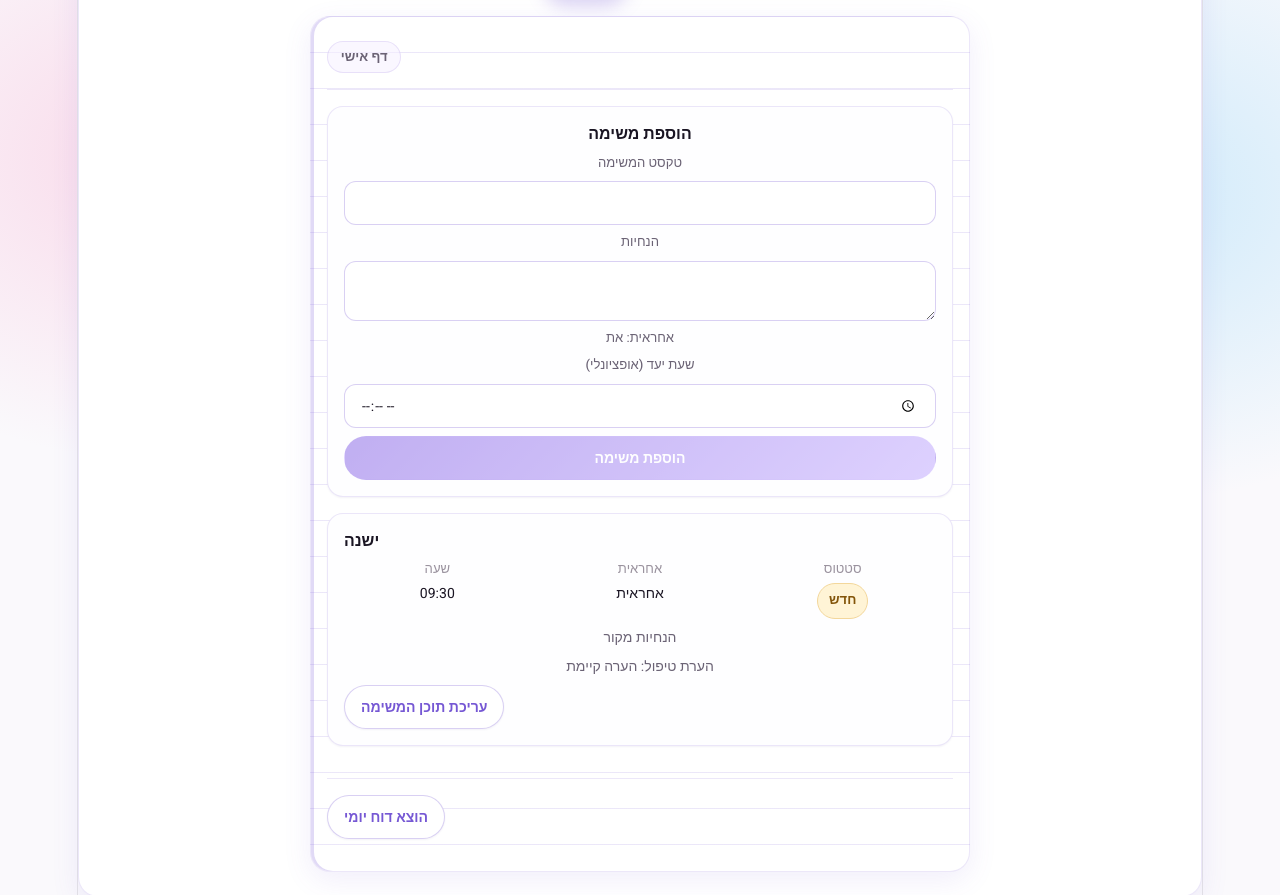
Test: ManagementJournalSection J3A daily summary › does not open a stale report when authoritative refresh fails
The image size is (1280, 895).
(page scrolled)
Step 1. Click the button with test id "journal-daily-summary-open" → [386, 817], box [327,795,445,839]
(page scrolled)
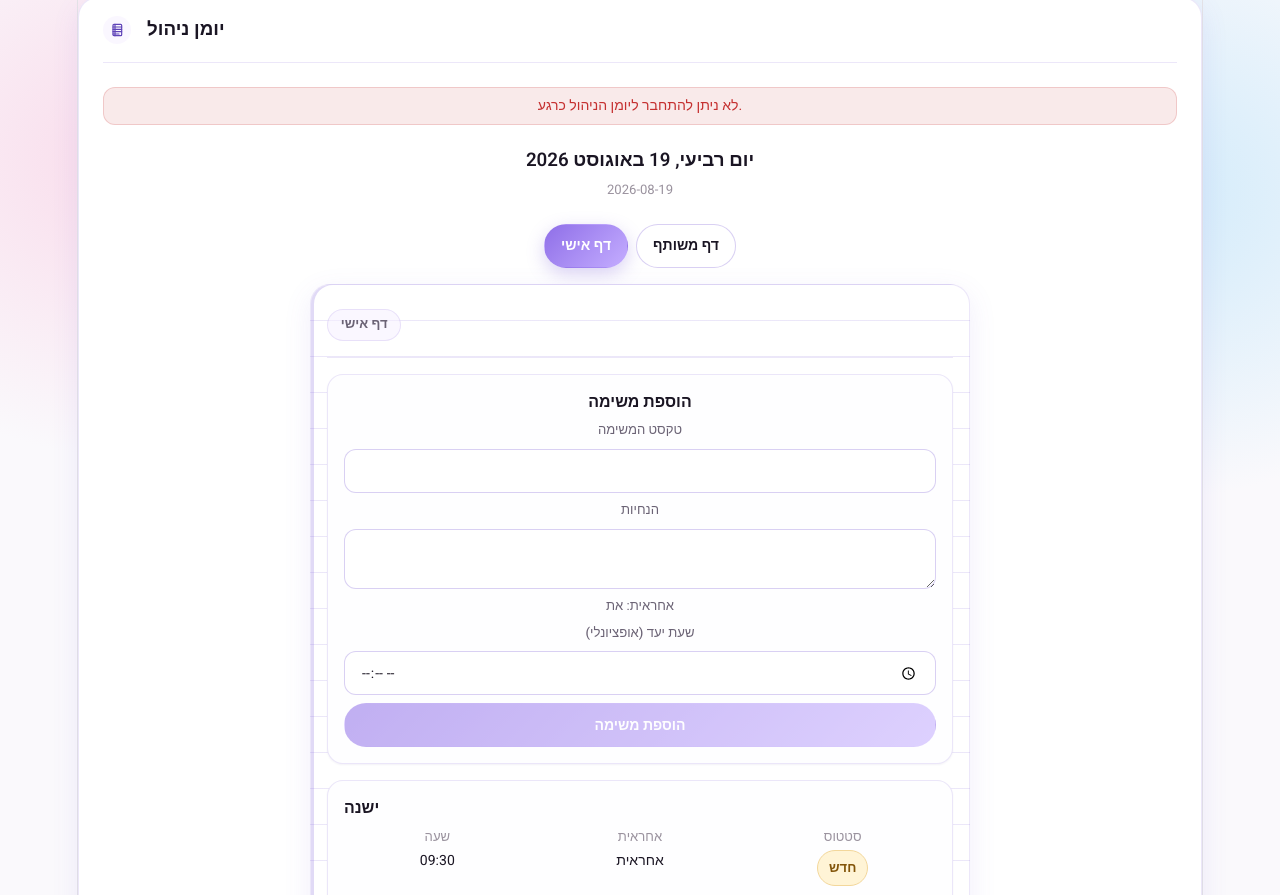
Expected: the message reads "לא ניתן להתחבר ליומן הניהול כרגע.", [538,95,742,116]
